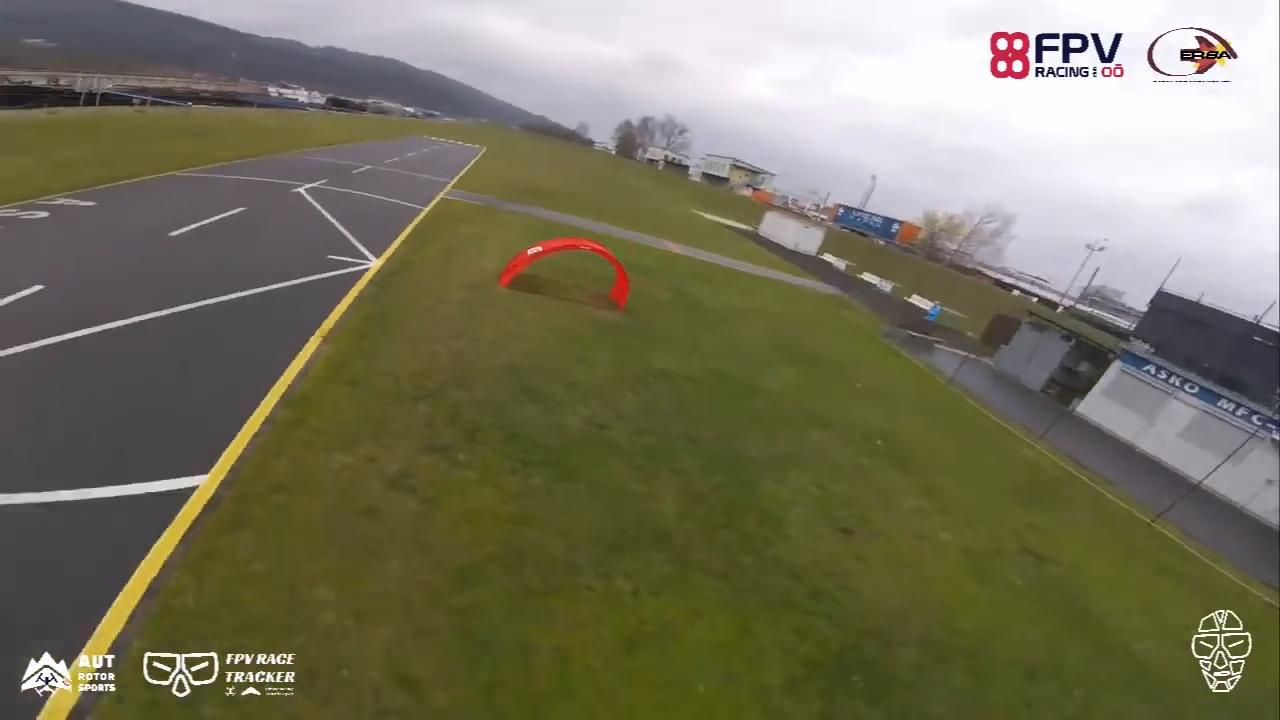gate: (496, 234, 633, 310)
